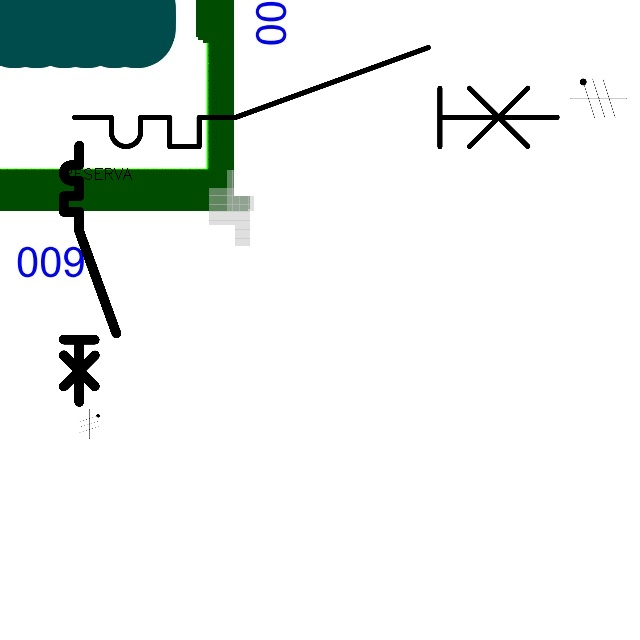interruptor_termomagnetico: (62, 35, 569, 159), (57, 139, 123, 408)
